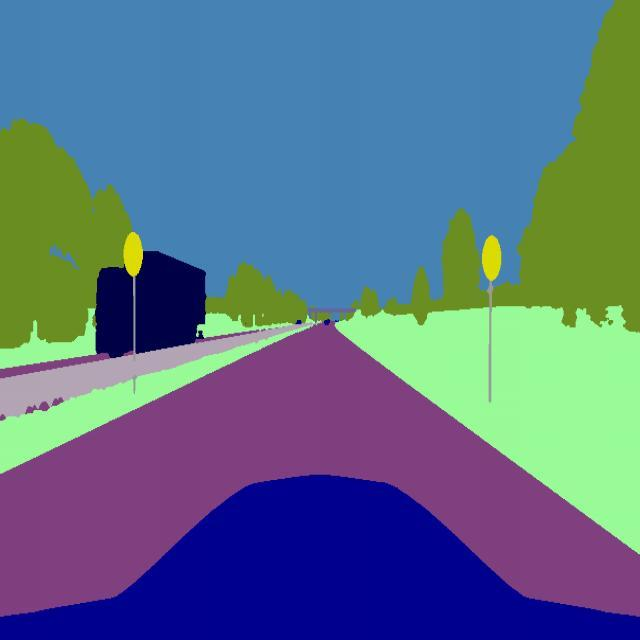safe: (97, 248, 206, 356)
